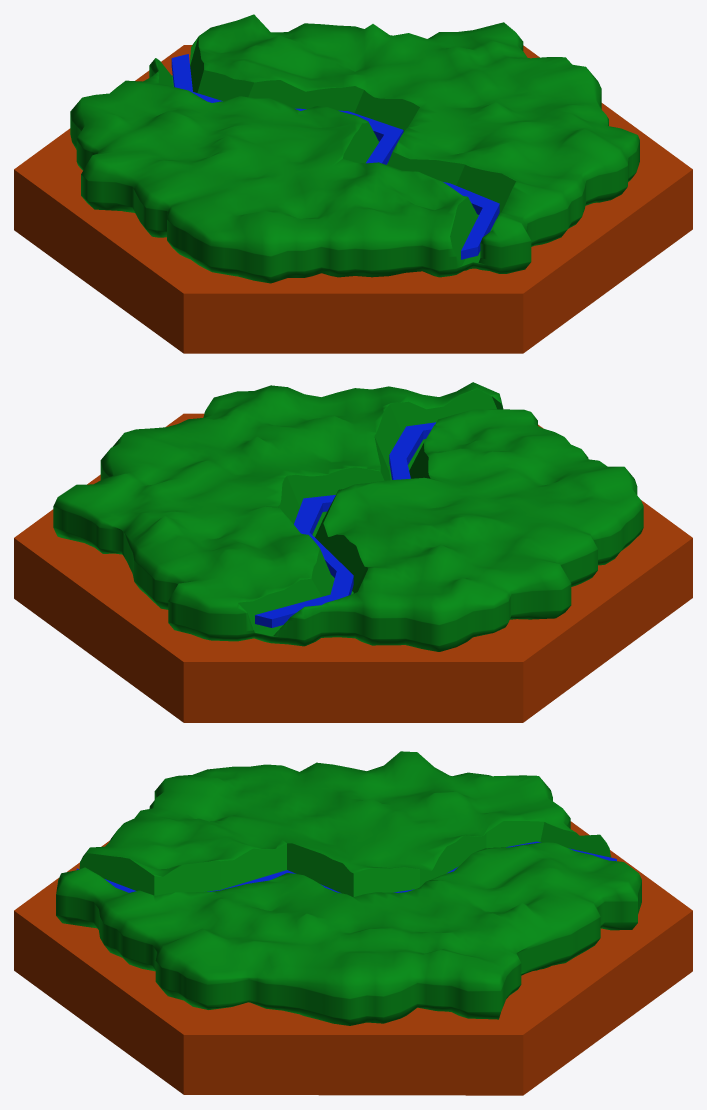
The model's file is jungle_biome.fbx.
The picture shows the model from 3 angles, top to bottom: view 1: azimuth 30°, elevation 25°; view 2: azimuth 150°, elevation 25°; view 3: azimuth 270°, elevation 25°; orthographic projection.
Parts seen in each view (by area): view 1: Hexagon.002, Hexagon, Cube.001; view 2: Hexagon.002, Hexagon, Cube.001; view 3: Hexagon.002, Hexagon, Cube.001.
Boxes of the visible parts, x1,y1,x2,y2 form: Hexagon.002: (70,14,639,283); Hexagon: (14,45,692,353); Cube.001: (171,54,499,259); Hexagon.002: (53,382,643,651); Hexagon: (14,413,692,722); Cube.001: (255,422,435,627); Hexagon.002: (56,751,641,1025); Hexagon: (14,821,692,1095); Cube.001: (76,841,616,892).
Bounding box in the file's own units: 173 × 38.78 × 200.
